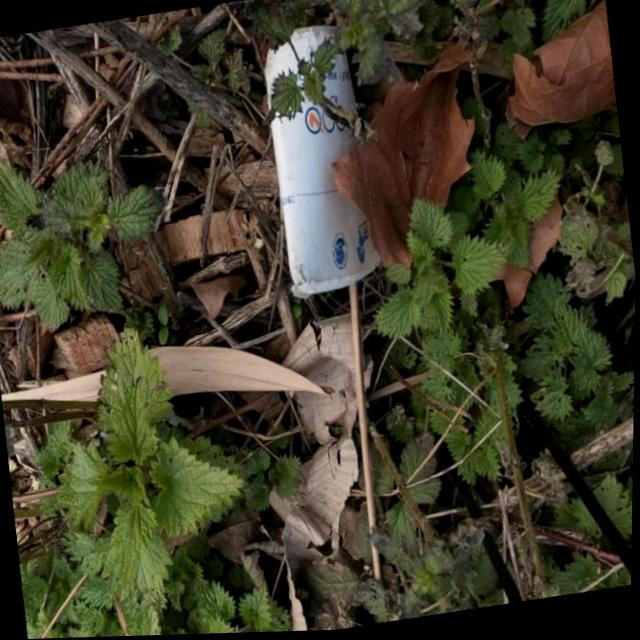Cup: (251, 12, 395, 308)
